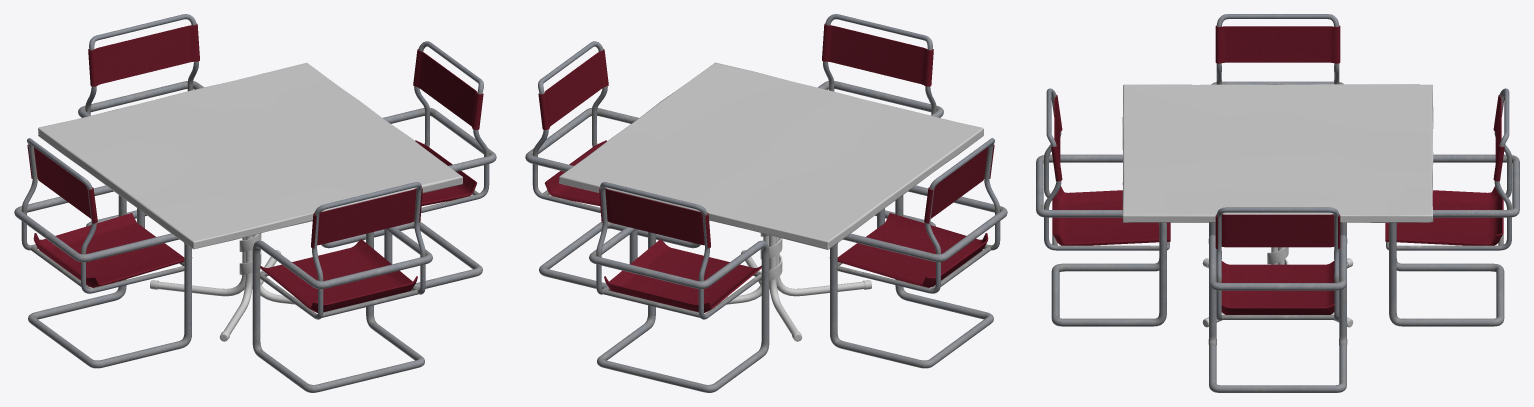
File: TableAndChairs.fbx
The picture shows the model from 3 angles, left to right: view 1: azimuth 30°, elevation 25°; view 2: azimuth 150°, elevation 25°; view 3: azimuth 270°, elevation 25°; orthographic projection.
Parts seen in each view (by area): view 1: tabble, chair_02, chair_03, chair_01, chair_04; view 2: tabble, chair_04, chair_03, chair_01, chair_02; view 3: tabble, chair_01, chair_04, chair_02, chair_03.
Part boxes in pixels (left/top/right/bottom): tabble: left=38, top=62, right=462, bottom=341; chair_02: left=252, top=182, right=432, bottom=392; chair_03: left=14, top=138, right=192, bottom=368; chair_01: left=321, top=41, right=496, bottom=290; chair_04: left=78, top=14, right=203, bottom=228; tabble: left=559, top=62, right=983, bottom=341; chair_04: left=589, top=182, right=769, bottom=392; chair_03: left=829, top=138, right=1007, bottom=368; chair_01: left=525, top=41, right=700, bottom=290; chair_02: left=818, top=14, right=943, bottom=228; tabble: left=1122, top=84, right=1433, bottom=327; chair_01: left=1208, top=207, right=1347, bottom=392; chair_04: left=1385, top=88, right=1519, bottom=326; chair_02: left=1036, top=88, right=1170, bottom=326; chair_03: left=1208, top=14, right=1347, bottom=243.
Bounding box in the file's own units: 3454 × 1484 × 3454.
